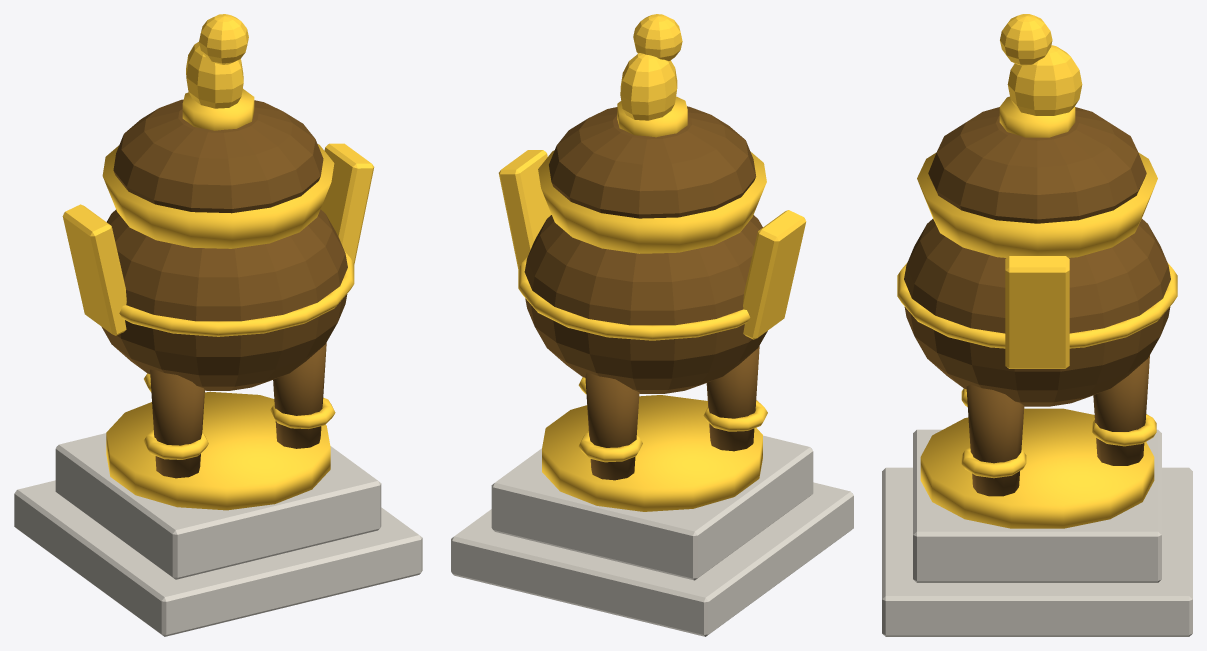
The model's file is dinh_dong_san_chua.glb.
3 views of the same model, side by side, from view 1: azimuth 30°, elevation 25°; view 2: azimuth 150°, elevation 25°; view 3: azimuth 270°, elevation 25° (orthographic). The views are drawn at different scales.
Parts seen in each view (by area): view 1: dinh_dong_san_chua; view 2: dinh_dong_san_chua; view 3: dinh_dong_san_chua.
Boxes of the visible parts, x1=… form: dinh_dong_san_chua: x1=14, y1=14, x2=422, y2=636; dinh_dong_san_chua: x1=451, y1=14, x2=853, y2=636; dinh_dong_san_chua: x1=882, y1=14, x2=1192, y2=636.
Size of the model in its own units: 1.8 by 3.26 by 1.65.
